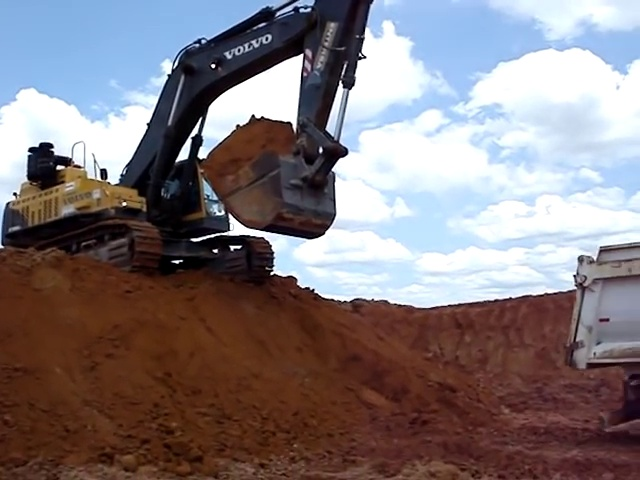excavator: (4, 1, 374, 284)
